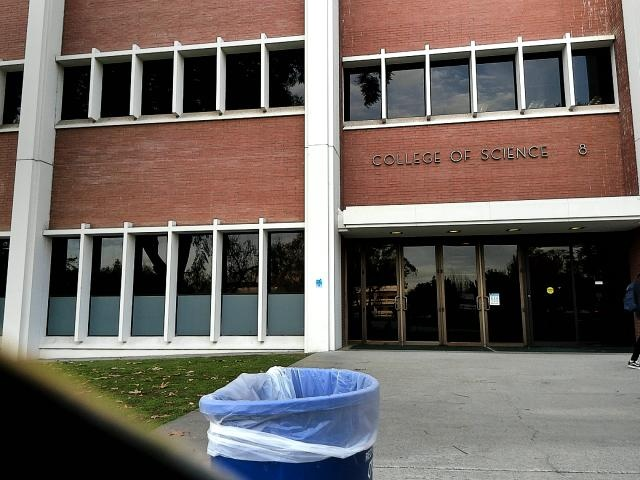trashcan_open: (200, 366, 391, 480)
